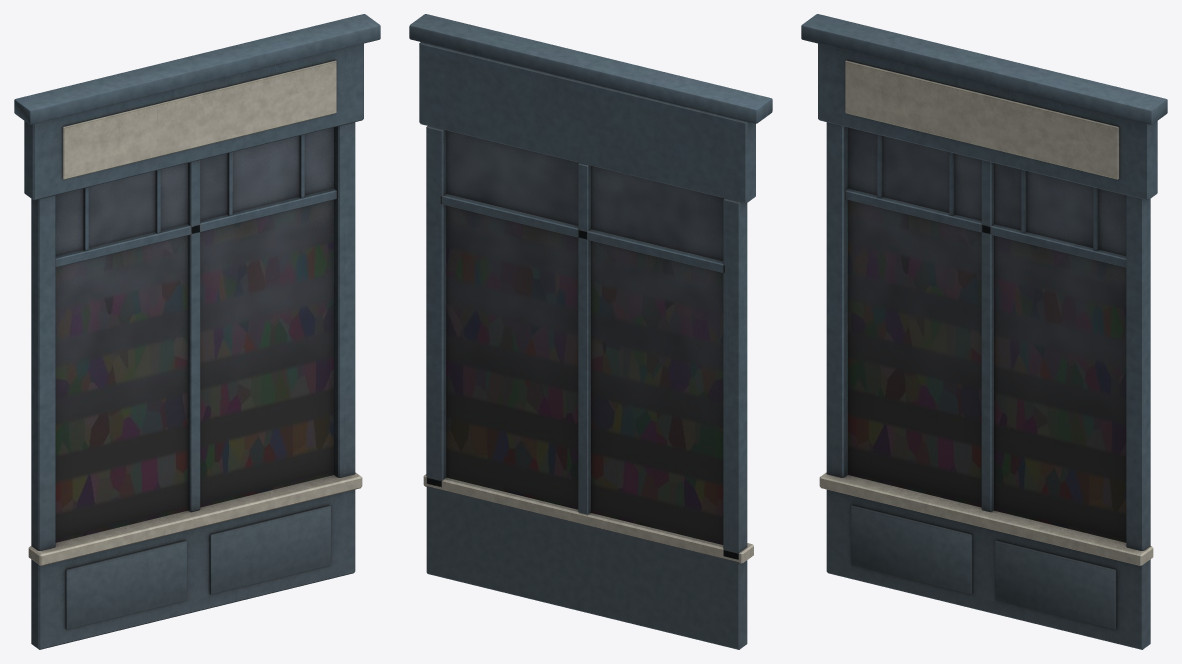
The model's file is shop_town_20_blue.glb.
3 renders of one model, left to right at view 1: azimuth 30°, elevation 25°; view 2: azimuth 150°, elevation 25°; view 3: azimuth 330°, elevation 25°, orthographic.
Parts seen in each view (by area): view 1: shop_town_20_blue; view 2: shop_town_20_blue; view 3: shop_town_20_blue.
Part boxes in pixels (x1,y1,x2,y2): shop_town_20_blue: (14,14,380,649); shop_town_20_blue: (409,14,772,649); shop_town_20_blue: (801,14,1167,649).
Size of the model in its own units: 2.44 by 3.65 by 0.2.
1 material, 1 textured.
